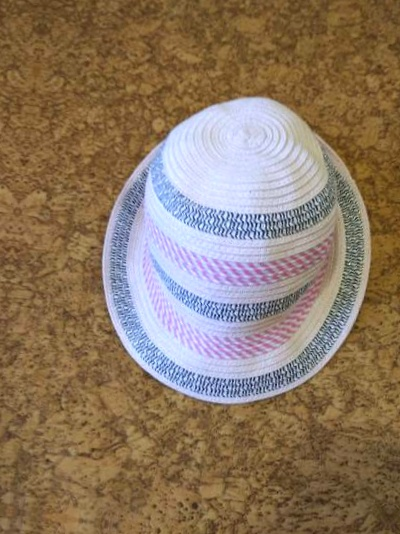Hat: (72, 52, 394, 417)
